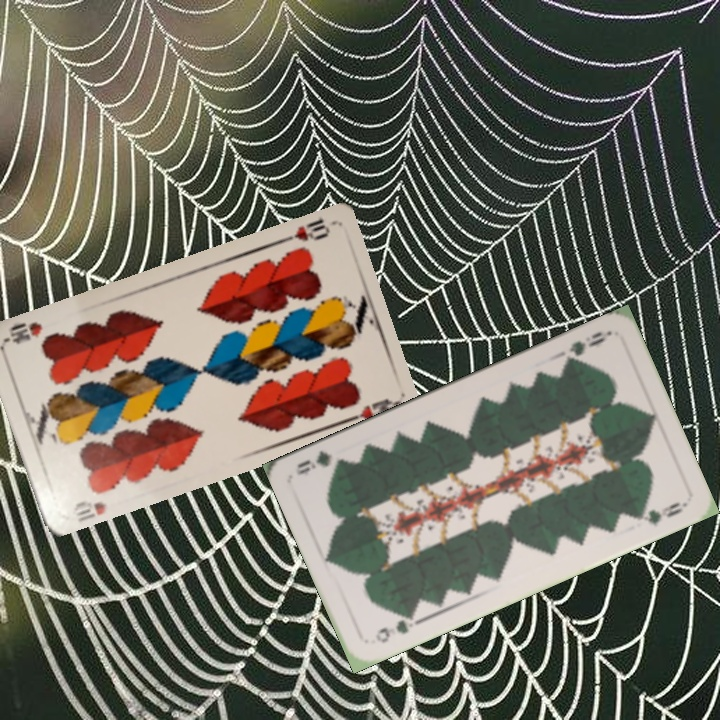G9: (561, 327, 613, 368), (371, 608, 419, 646)
H10: (276, 214, 333, 246), (68, 497, 109, 524)
